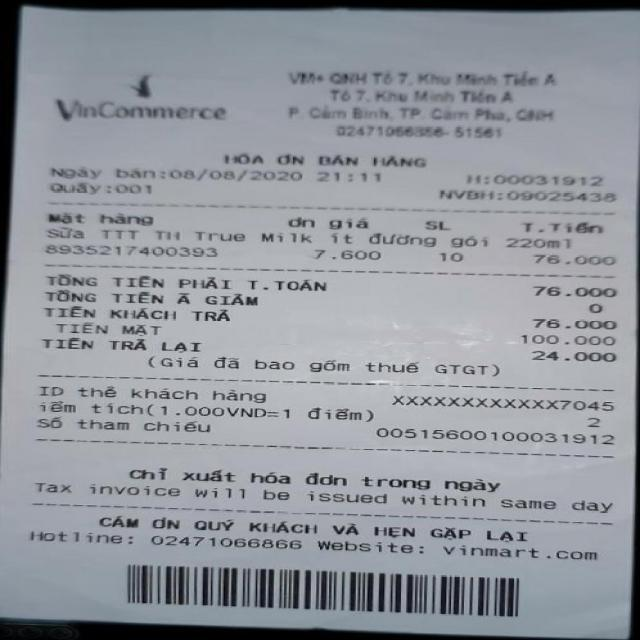Date: (165, 165, 305, 187)
Store_Name: (50, 94, 233, 127)
amount_number: (528, 280, 620, 303)
label_total: (43, 272, 331, 294)
